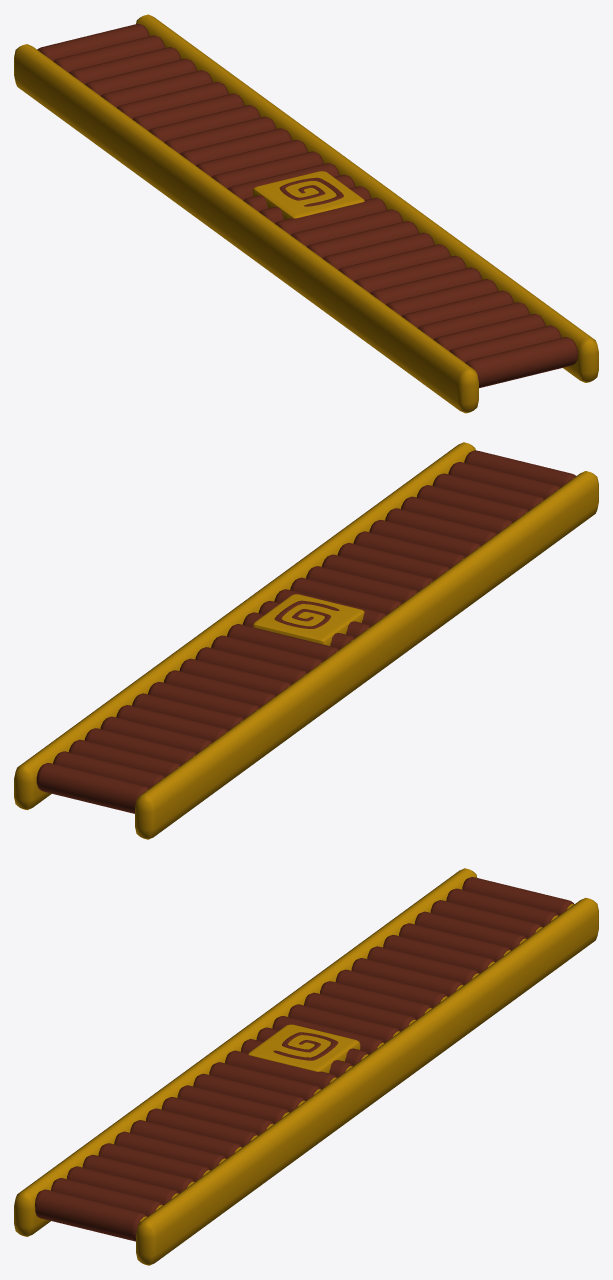
The model's file is BridgeLong.fbx.
The picture shows the model from 3 angles, top to bottom: view 1: azimuth 30°, elevation 25°; view 2: azimuth 150°, elevation 25°; view 3: azimuth 330°, elevation 25°; orthographic projection.
Visible parts, largest first — view 1: Side, Wood1, Wood, Side4, Symbol, Symbol1; view 2: Side, Wood, Wood1, Side4, Symbol, Symbol1; view 3: Side4, Wood1, Wood, Side, Symbol, Symbol1.
Boxes of the visible parts, bbox=[...] form: Side: bbox=[14, 44, 478, 413]; Wood1: bbox=[259, 186, 577, 388]; Wood: bbox=[37, 24, 355, 211]; Side4: bbox=[136, 14, 598, 382]; Symbol: bbox=[252, 171, 364, 219]; Symbol1: bbox=[279, 177, 343, 206]; Side: bbox=[135, 471, 598, 839]; Wood: bbox=[36, 612, 354, 813]; Wood1: bbox=[258, 450, 575, 637]; Side4: bbox=[14, 442, 475, 810]; Symbol: bbox=[253, 594, 364, 645]; Symbol1: bbox=[274, 600, 339, 628]; Side4: bbox=[136, 897, 598, 1265]; Wood1: bbox=[35, 1039, 352, 1241]; Wood: bbox=[256, 877, 574, 1065]; Side: bbox=[14, 868, 477, 1236]; Symbol: bbox=[248, 1024, 360, 1073]; Symbol1: bbox=[273, 1032, 338, 1060].
Bounding box in the file's own units: 3.48 × 1.08 × 19.24.
